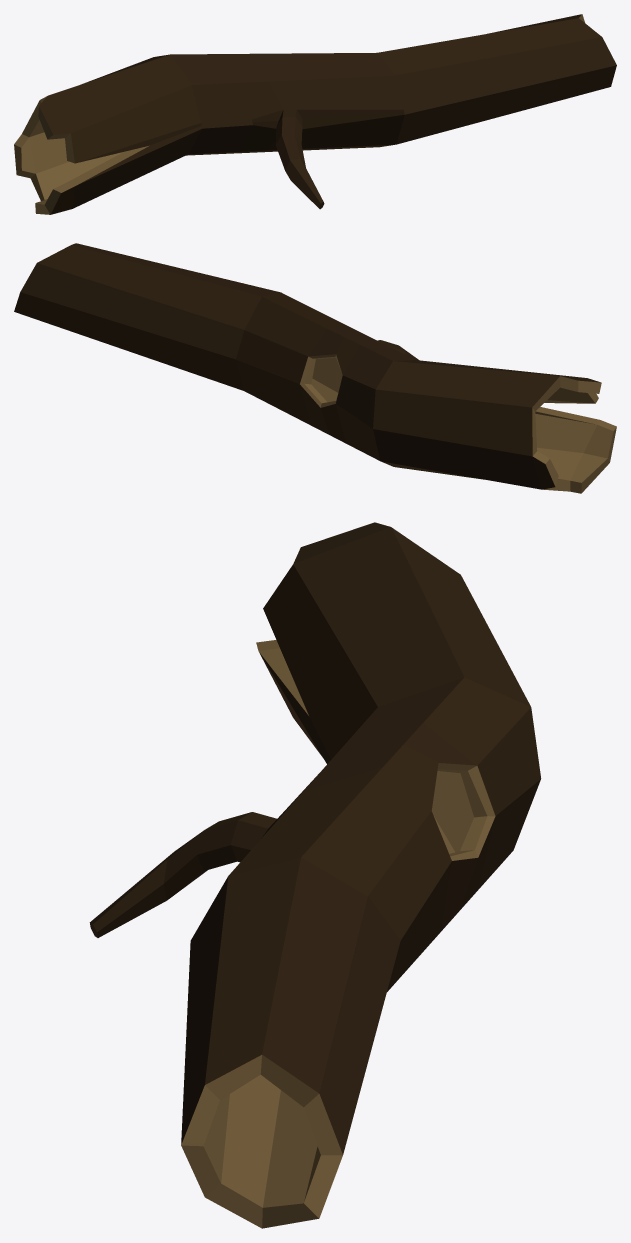
Rendered from dark log.fbx.
3 renders of one model, top to bottom at view 1: azimuth 30°, elevation 25°; view 2: azimuth 150°, elevation 25°; view 3: azimuth 270°, elevation 25°, orthographic. The views are drawn at different scales.
Visible parts, largest first — view 1: Log; view 2: Log; view 3: Log.
Boxes of the visible parts, x1,y1,x2,y2 form: Log: (14,14,616,214); Log: (14,243,616,493); Log: (89,522,541,1228).
Size of the model in its own units: 602 by 114 by 209.
